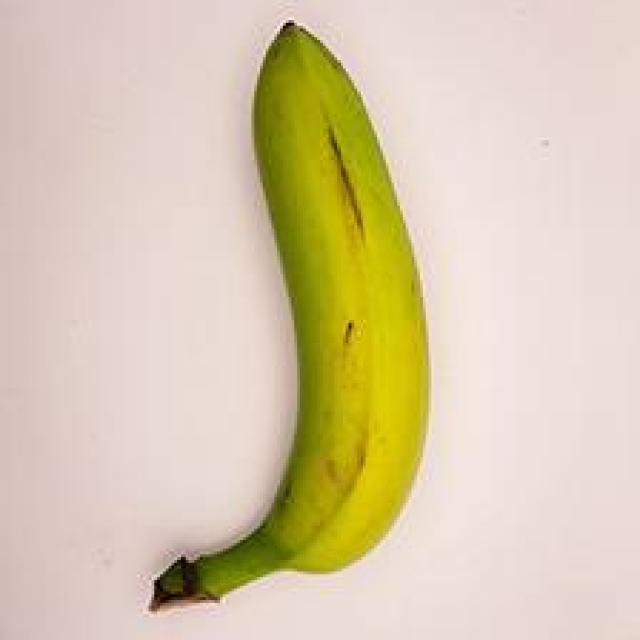Unripe: (128, 16, 489, 615)
